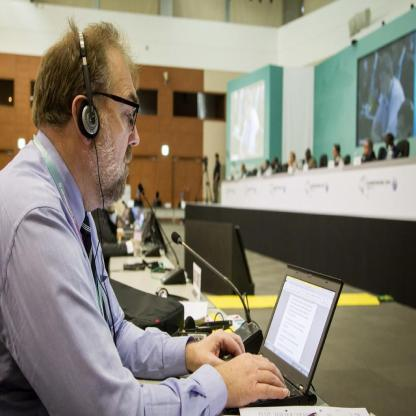board: (232, 269, 332, 414), (134, 217, 142, 258)
